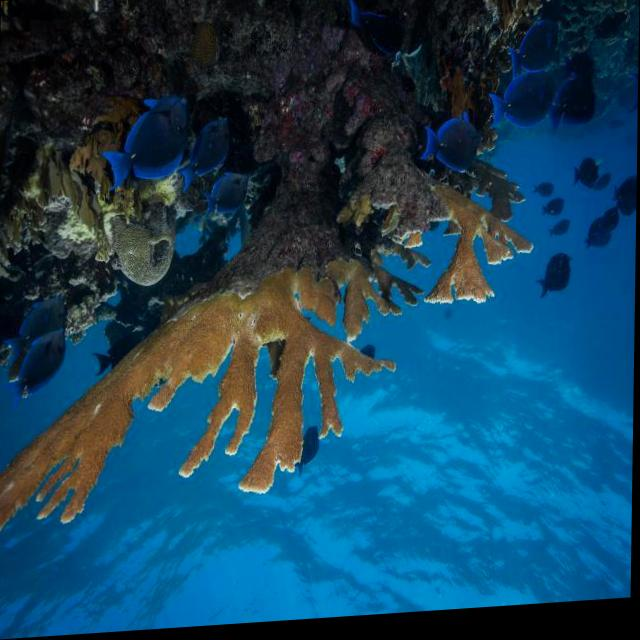Healthy Coral: (0, 263, 387, 533), (30, 129, 123, 265), (434, 184, 512, 317), (113, 196, 181, 291)
